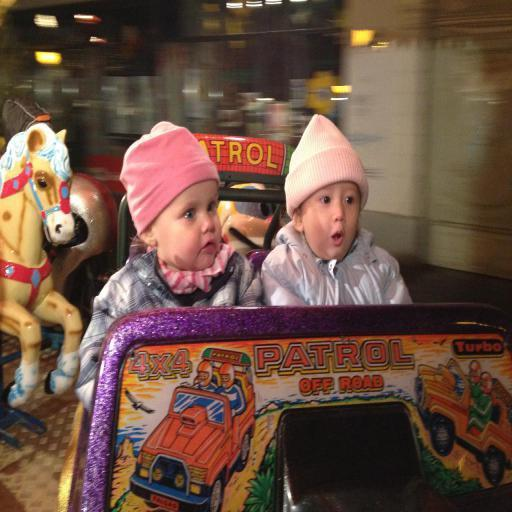horse: (0, 122, 84, 408)
